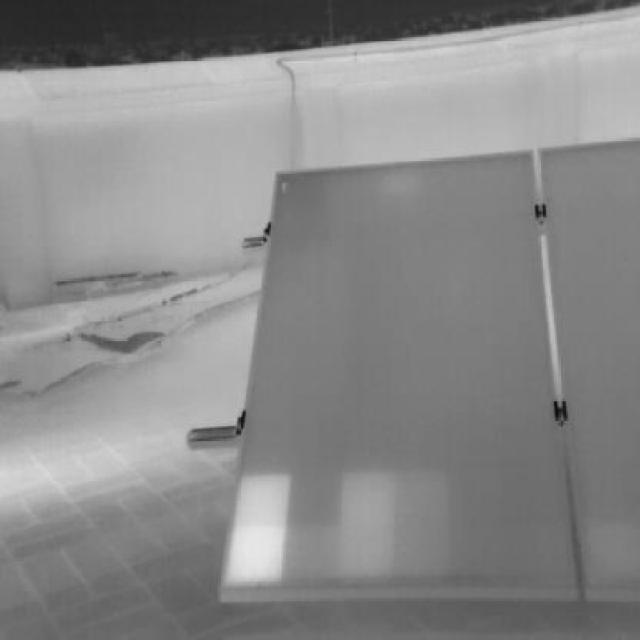hotspot: (393, 466, 452, 586), (339, 467, 399, 584), (229, 477, 289, 578)
